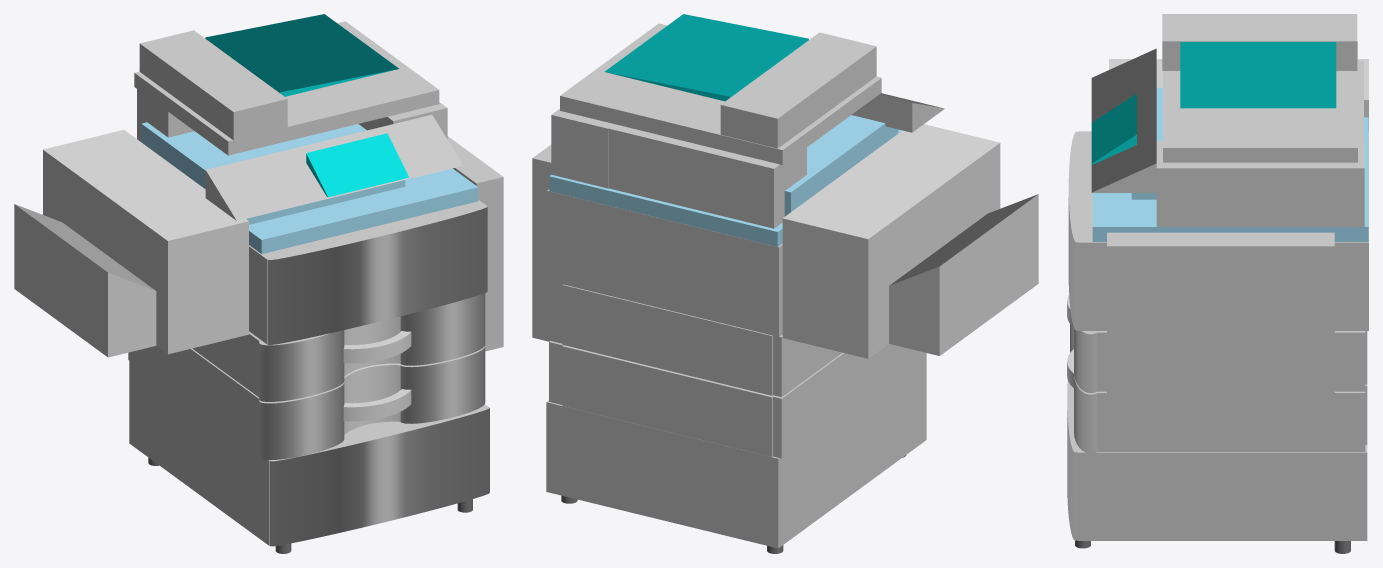
The model's file is sweethome3d-contributions-photocopier-printer.glb.
3 renders of one model, left to right at view 1: azimuth 30°, elevation 25°; view 2: azimuth 150°, elevation 25°; view 3: azimuth 270°, elevation 25°, orthographic. The views are drawn at different scales.
Visible parts, largest first — view 1: Cube_1_25_25_25, Cylinder_1_1_19_19_19, Cylinder_1_1_1_1_1, Cube_1_2_2_2_2_2, Cube_1_40, Triangle_2_27_27_27, Triangle_2_34, Cube_1_41, Triangle_2_43, Cube_1_29, Cube_1_6_6_8_8_8, Cube_1_30 (+15 smaller); view 2: Cube_1_2_2_2_2_2, Cube_1_25_25_25, Cube_1_2_2_20_20_20, Cube_1_8_8_10_10_10, Cube_1_8_8_18_18_18, Cube_1_32, Cube_1_40, Triangle_2_27_27_27, Cube_1_41, Triangle_2_43, Cube_1_6_6_8_8_8, Cube_1_30 (+8 smaller); view 3: Cube_1_39, Cube_1_2_2_2_2_2, Cube_1_31, Cube_1_40, Triangle_2_43, Cube_1_7_7_9_9_9, Cube_1_2_2_20_20_20, Cube_1_41, Triangle_2_34, Cube_1_29, Cube_1_7_7_17_17_17, Cylinder_1_1_19_19_19 (+8 smaller).
Boxes of the visible parts, <box> form: Cube_1_25_25_25: <box>43,130,248,354</box>; Cylinder_1_1_19_19_19: <box>268,206,487,344</box>; Cylinder_1_1_1_1_1: <box>270,407,489,546</box>; Cube_1_2_2_2_2_2: <box>129,361,488,545</box>; Cube_1_40: <box>134,21,439,155</box>; Triangle_2_27_27_27: <box>14,204,155,356</box>; Triangle_2_34: <box>206,114,463,220</box>; Cube_1_41: <box>139,30,287,140</box>; Triangle_2_43: <box>205,14,398,92</box>; Cube_1_29: <box>249,168,478,253</box>; Cube_1_6_6_8_8_8: <box>128,346,259,455</box>; Cube_1_30: <box>141,122,405,224</box>; Cube_1_2_2_2_2_2: <box>546,356,925,548</box>; Cube_1_25_25_25: <box>782,124,1000,358</box>; Cube_1_2_2_20_20_20: <box>547,189,782,336</box>; Cube_1_8_8_10_10_10: <box>562,345,773,456</box>; Cube_1_8_8_18_18_18: <box>562,284,772,395</box>; Cube_1_32: <box>608,124,806,228</box>; Cube_1_40: <box>560,23,881,164</box>; Triangle_2_27_27_27: <box>889,194,1038,355</box>; Cube_1_41: <box>720,32,876,148</box>; Triangle_2_43: <box>604,14,808,97</box>; Cube_1_6_6_8_8_8: <box>773,344,920,458</box>; Cube_1_30: <box>784,115,898,216</box>; Cube_1_39: <box>1107,232,1334,423</box>; Cube_1_2_2_2_2_2: <box>1077,445,1367,540</box>; Cube_1_31: <box>1156,140,1364,226</box>; Cube_1_40: <box>1163,41,1357,162</box>; Triangle_2_43: <box>1180,42,1336,108</box>; Cube_1_7_7_9_9_9: <box>1095,391,1365,451</box>; Cube_1_2_2_20_20_20: <box>1078,131,1368,330</box>; Cube_1_41: <box>1162,14,1357,70</box>; Triangle_2_34: <box>1091,48,1156,192</box>; Cube_1_29: <box>1092,117,1368,241</box>; Cube_1_7_7_17_17_17: <box>1092,331,1365,391</box>; Cylinder_1_1_19_19_19: <box>1068,131,1084,330</box>.
Size of the model in its own units: 141 by 147 by 92.9.
